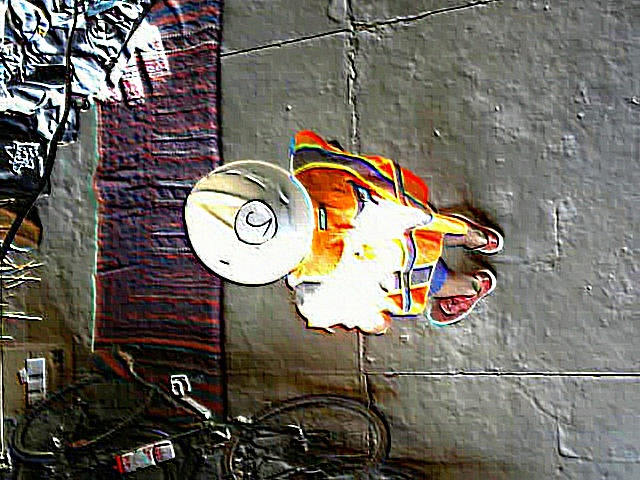two: (232, 200, 275, 246)
